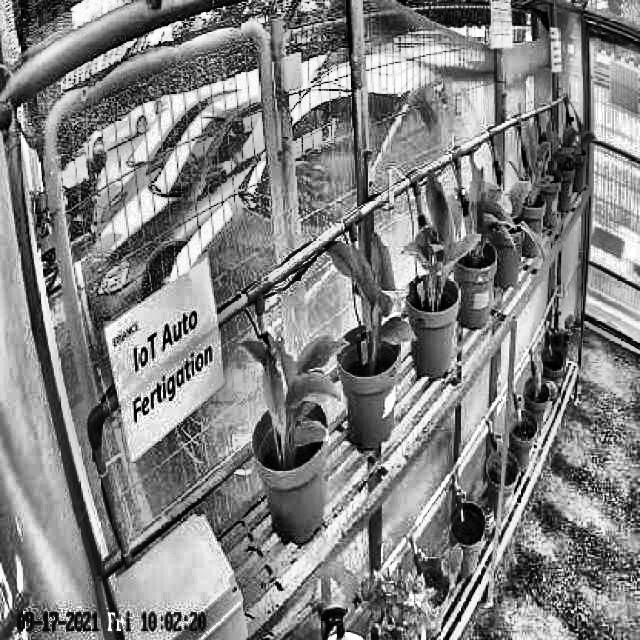plants: (239, 328, 347, 466), (328, 233, 417, 381), (399, 170, 481, 307), (459, 178, 512, 270)
